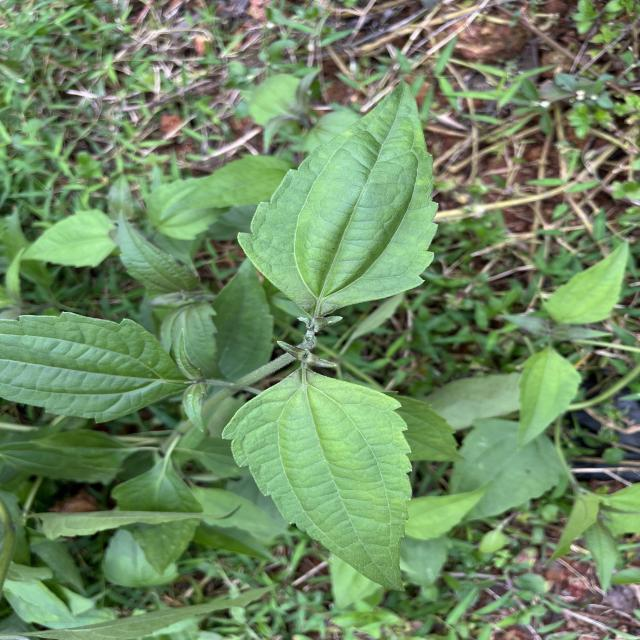Chromolaena odorata: (233, 78, 444, 319), (216, 362, 416, 596)
